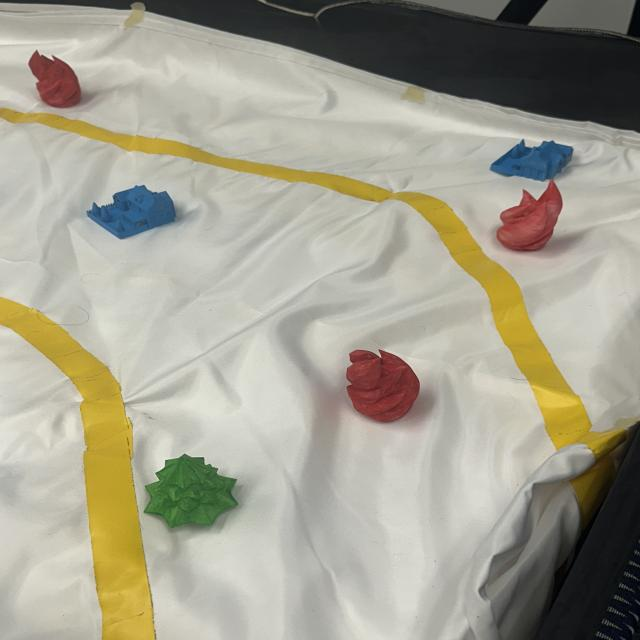fire: (342, 346, 422, 423), (499, 181, 561, 252), (28, 49, 84, 108)
house: (84, 182, 180, 240), (491, 137, 580, 180)
tree: (140, 452, 241, 530)
